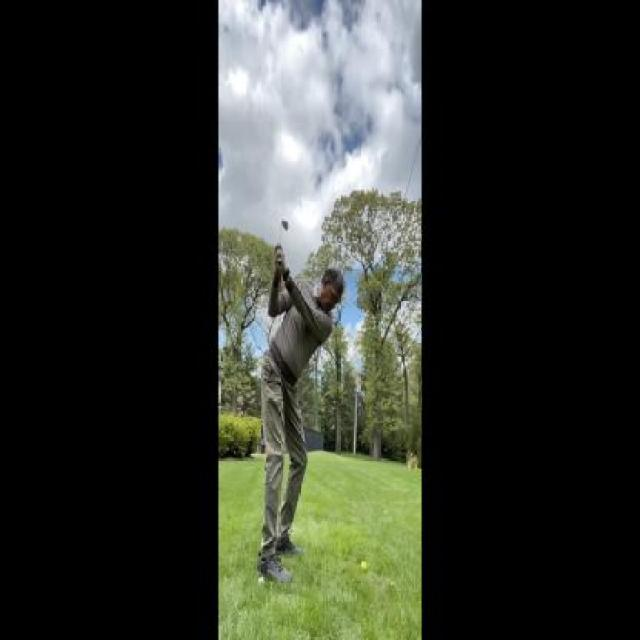club head: (277, 212, 291, 240)
